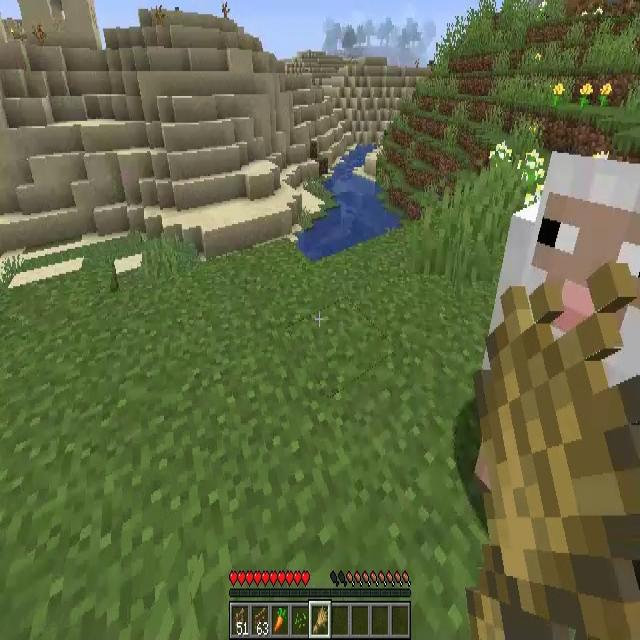sheep: (484, 147, 640, 533)
